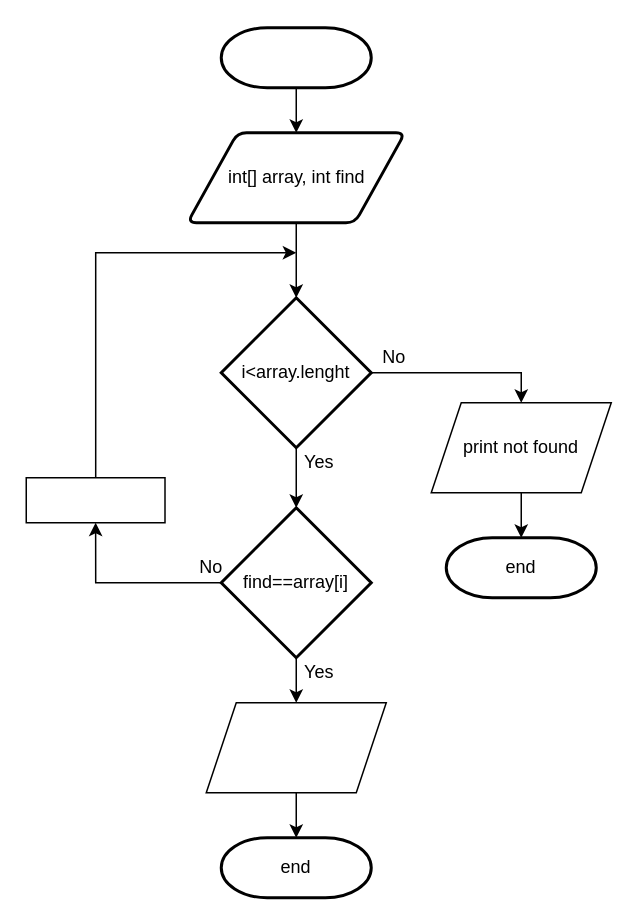
Image size: 638x924. Some labels were removed from this diagram. Each missing label, with the centre of its shape:
"i++" goes at point 95,499.
"print index" goes at point 295,747.
"start" goes at point 295,57.
